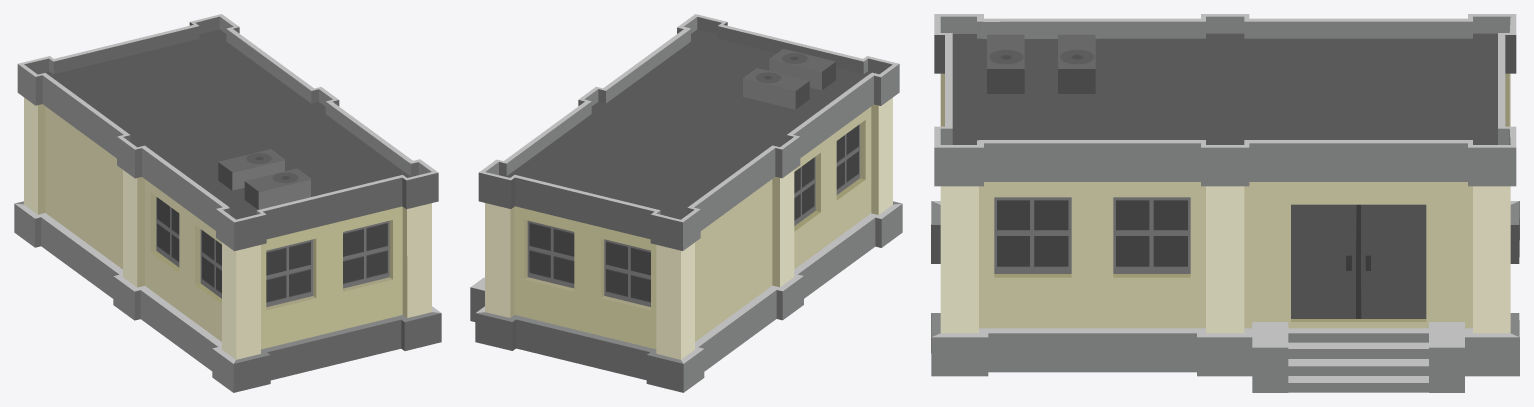
File: factory_2.glb
3 views of the same model, side by side, from view 1: azimuth 30°, elevation 25°; view 2: azimuth 150°, elevation 25°; view 3: azimuth 270°, elevation 25° (orthographic). The views are drawn at different scales.
Visible parts, largest first — view 1: factory_small_mesh; view 2: factory_small_mesh; view 3: factory_small_mesh.
Part boxes in pixels (x1=…): factory_small_mesh: x1=14, y1=14, x2=441, y2=392; factory_small_mesh: x1=470, y1=14, x2=902, y2=392; factory_small_mesh: x1=931, y1=14, x2=1519, y2=392.
Bounding box in the file's own units: 0.1018 × 0.0729 × 0.1654.
Materials: 1 (1 with a texture image).
